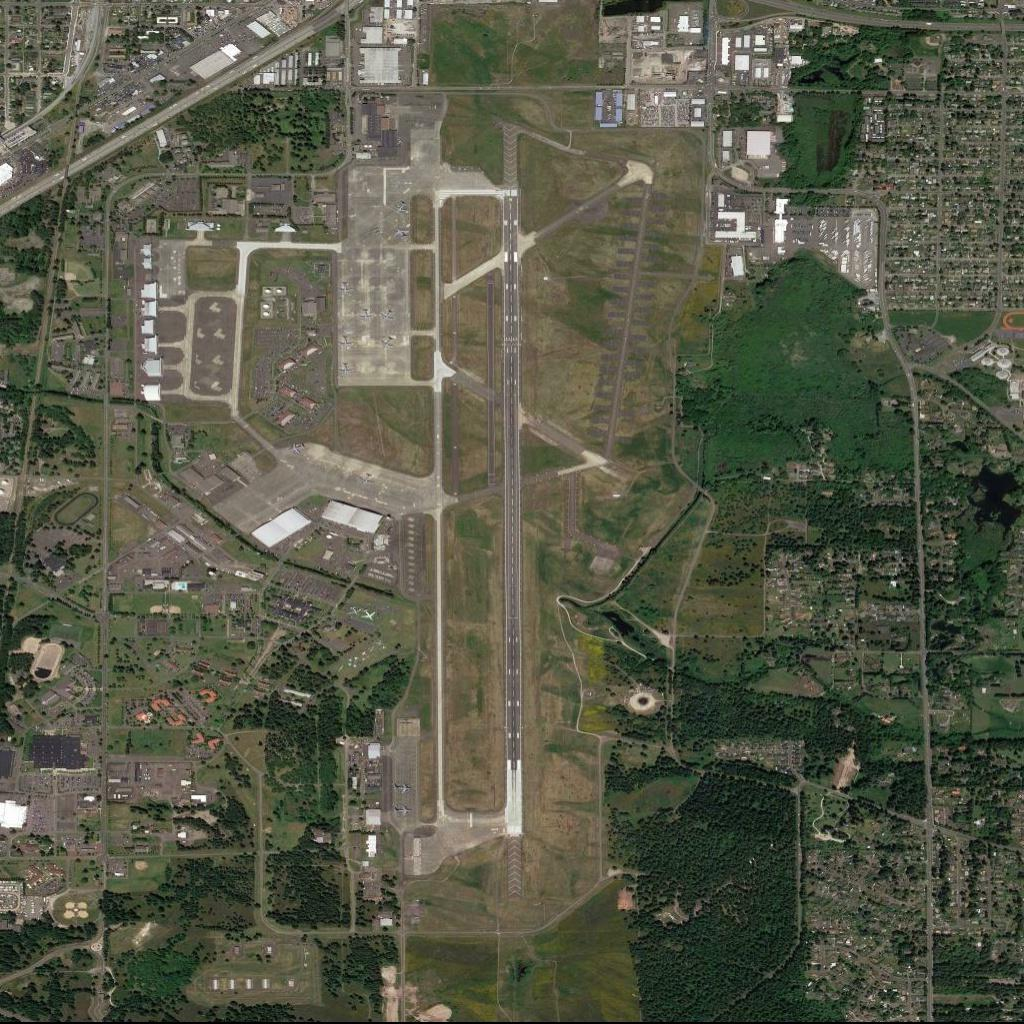plane: (389, 200, 411, 219), (390, 224, 412, 242), (397, 804, 416, 818), (397, 780, 413, 795)
